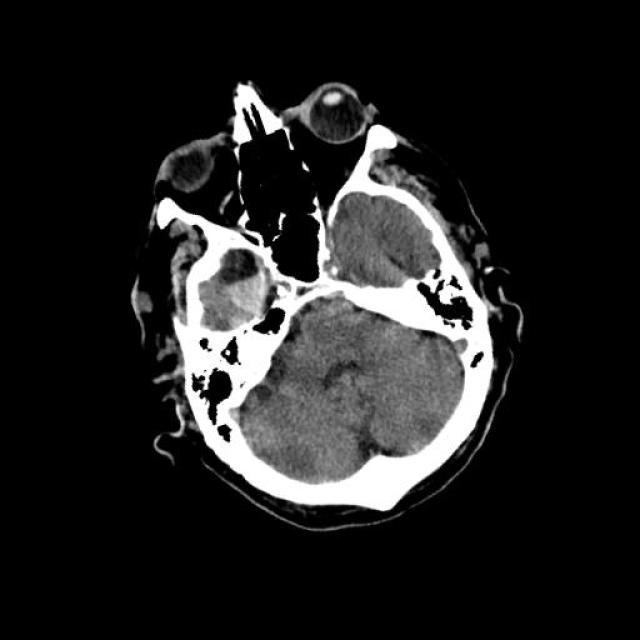Subdural: (198, 232, 308, 336)
